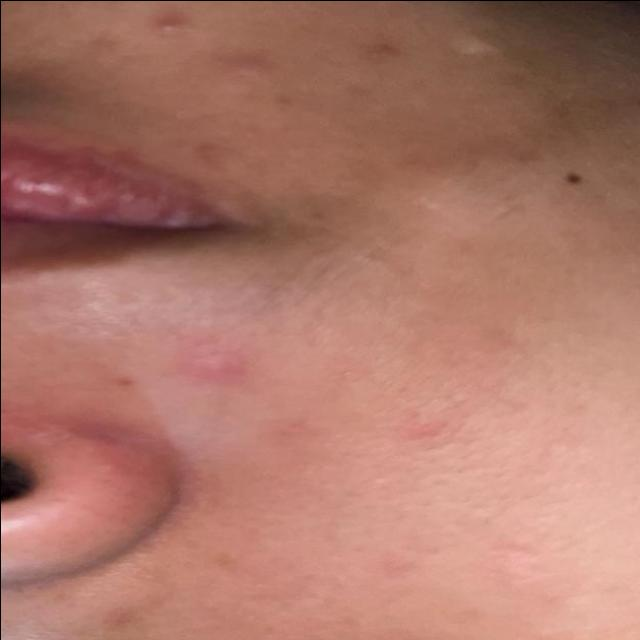papule: (177, 37, 300, 94), (176, 342, 271, 401)
pustule: (141, 0, 192, 49)
